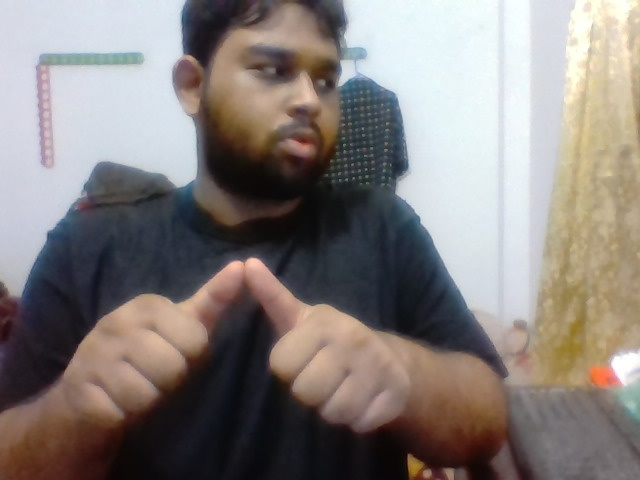A: (71, 233, 432, 448)
